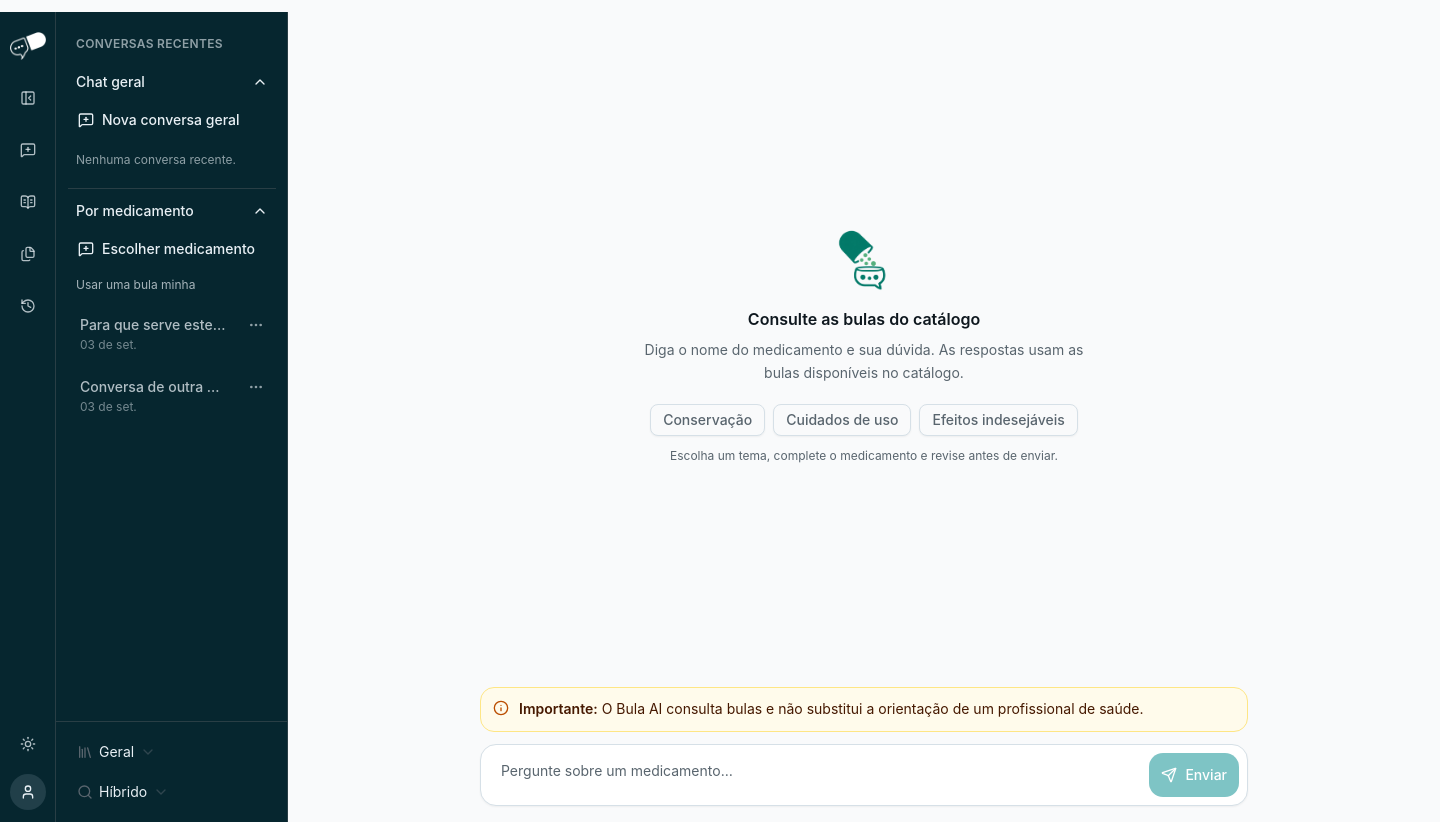
Test: ChatPage › explains every search mode on demand without sending a question
Click the dropdown named "Modo de busca" at x=123, y=792, box [68, 774, 178, 810]
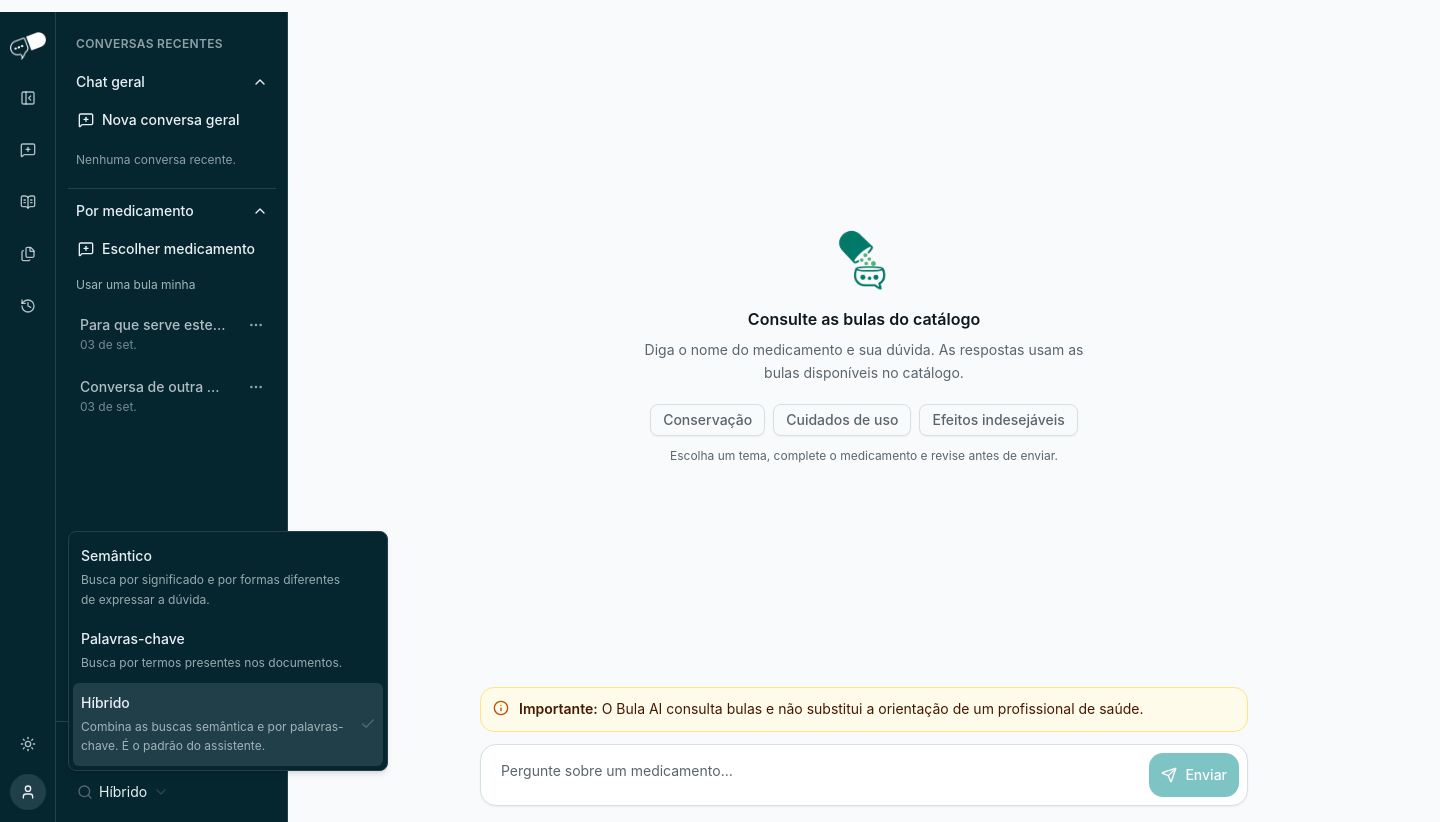
Result: the text "Busca por termos presentes nos documentos." is shown at [81, 653, 342, 672]
Result: the text "Busca por significado" is shown at [81, 572, 340, 606]
